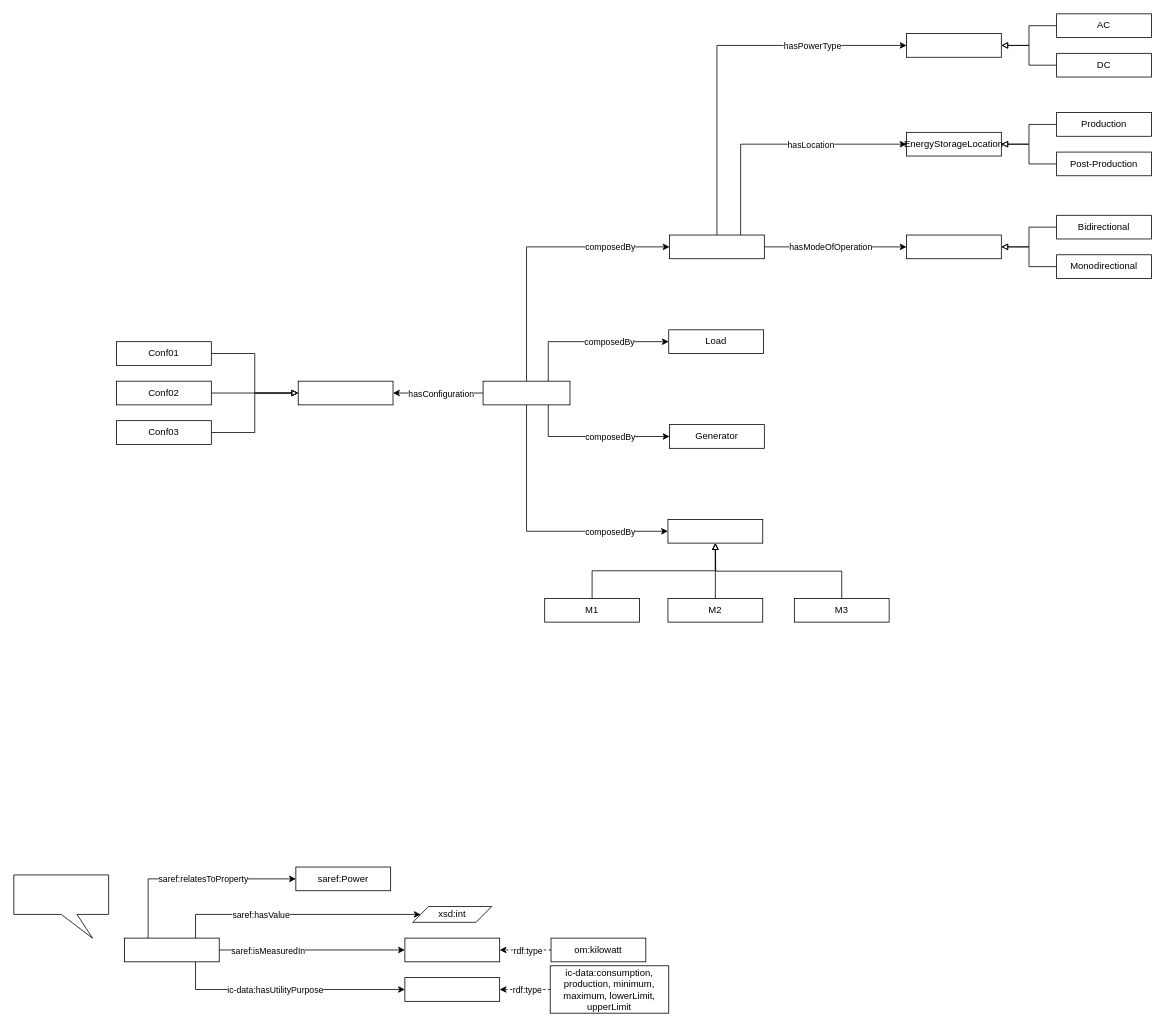
Image size: 1165x1027. Some labels were removed from this diagram. Each missing label, with the centre of its shape:
"Configuration" belongs at point 345,392.
"EnergyDirection" belongs at point 953,246.
"EnergyMeter" belongs at point 715,531.
"EnergyStorage" belongs at point 716,246.
"ic-data:DataPoint" belongs at point 171,949.
"ic-data:UtilityPurpose" belongs at point 452,989.
"il DataPoint è da finire" belongs at point 61,906.
"PowerType" belongs at point 953,45.
"Prosumer" belongs at point 526,392.
"saref:UnitOfMeasure" belongs at point 452,949.
